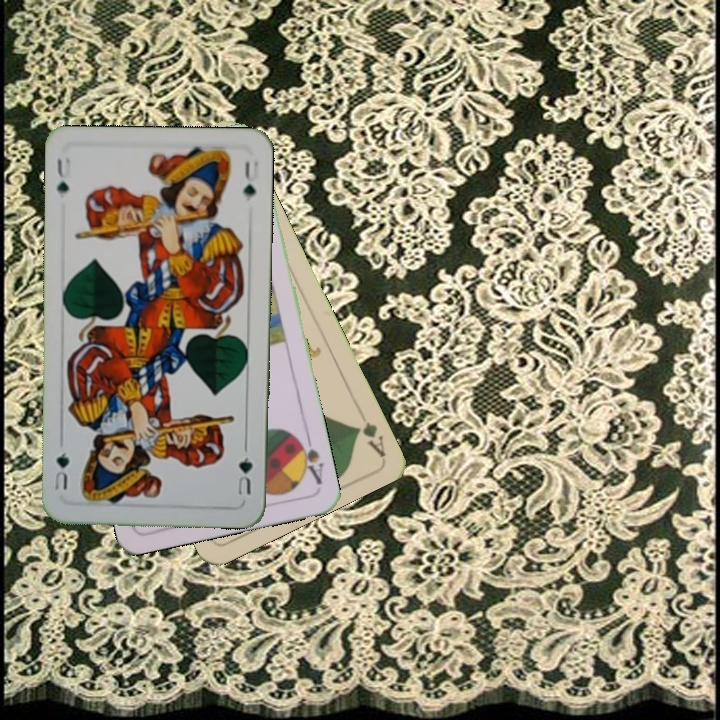GA: (350, 417, 388, 459)
GU: (234, 443, 255, 499), (52, 154, 73, 197)
SA: (292, 430, 326, 488)
